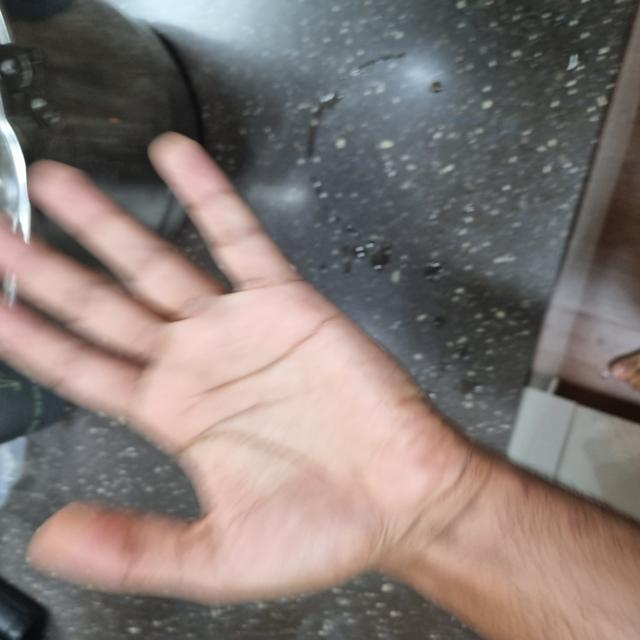Paper: (38, 0, 503, 447)
